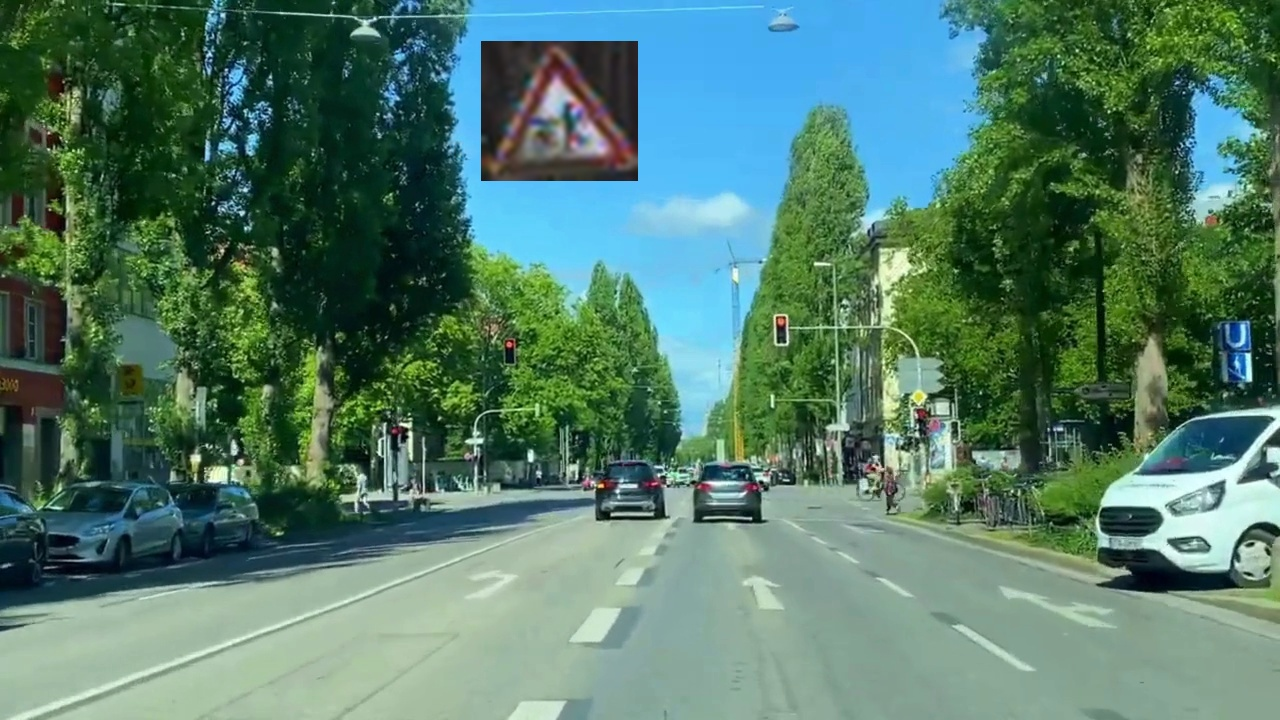Children: (481, 41, 638, 181)
